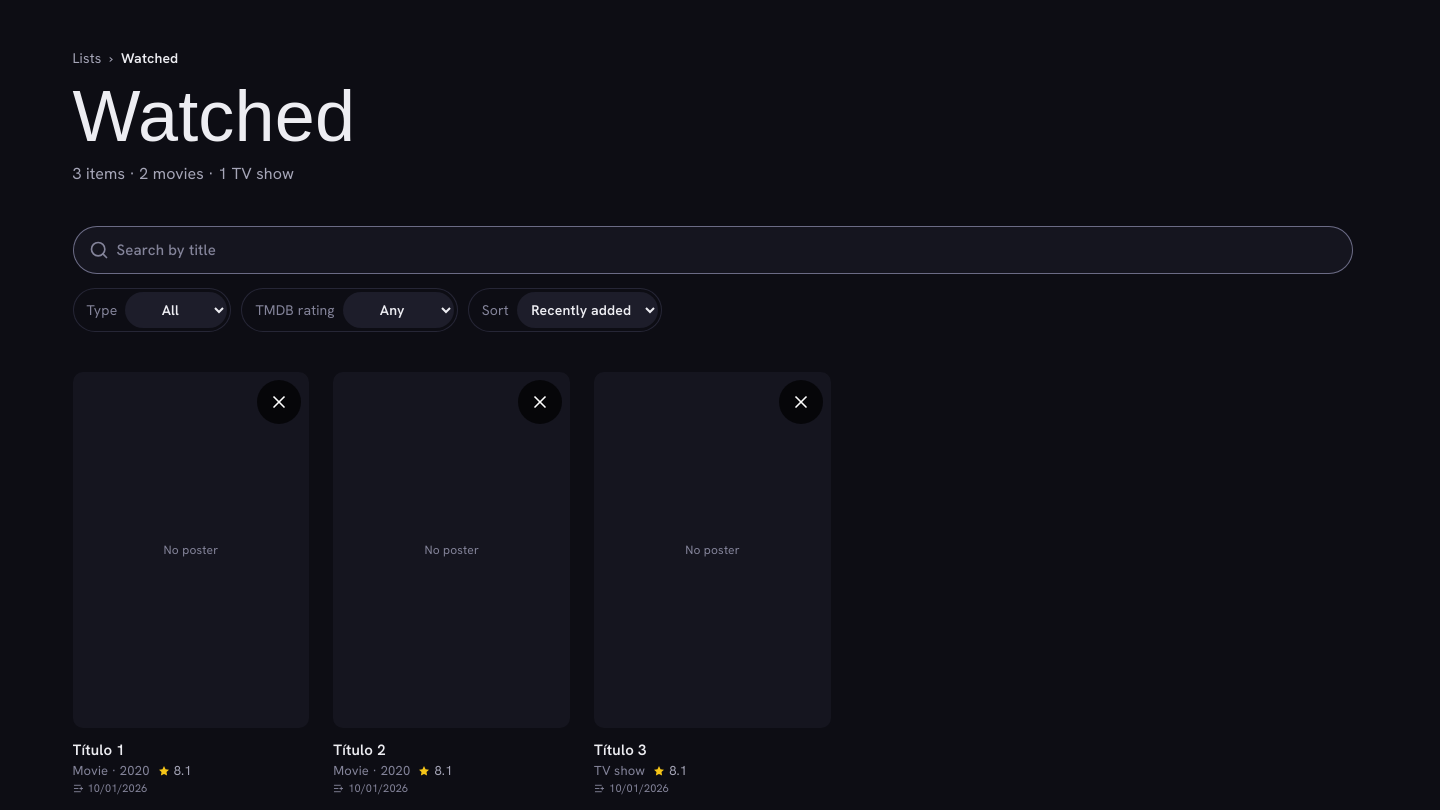
Detalle de una lista › Watched con título calificado: pide confirmar el borrado de la calificación y reintenta
The width and height of the screenshot is (1440, 810).
Expected: the link "No poster Título 1 Movie · 2020 8.1 10/01/2026" is shown, 72,372 -> 309,797
Click the button named "Remove Título 1 from Watched" at (279, 402), box 257,380 -> 301,424
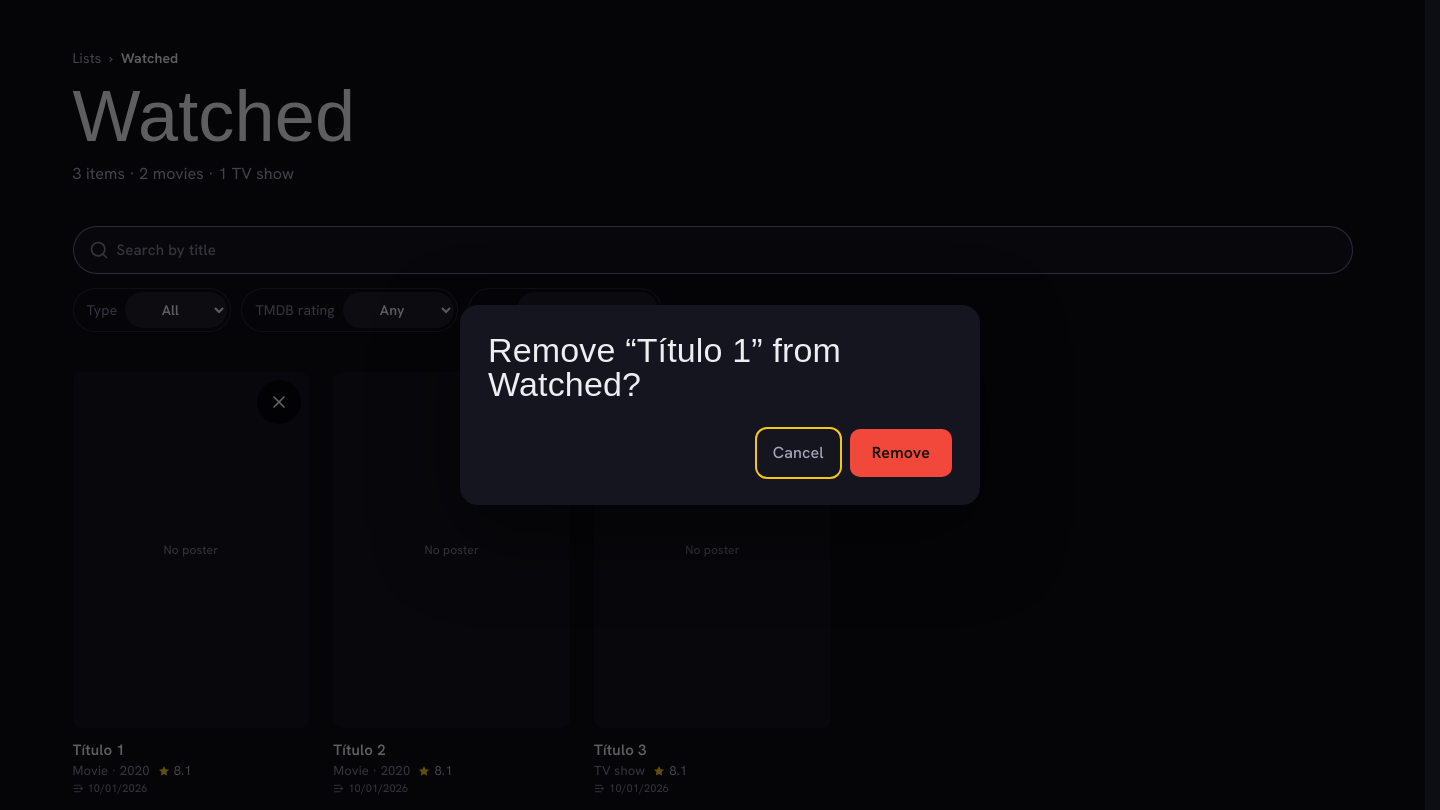
Click the button "Remove" at (901, 453), box 850,429 -> 952,477
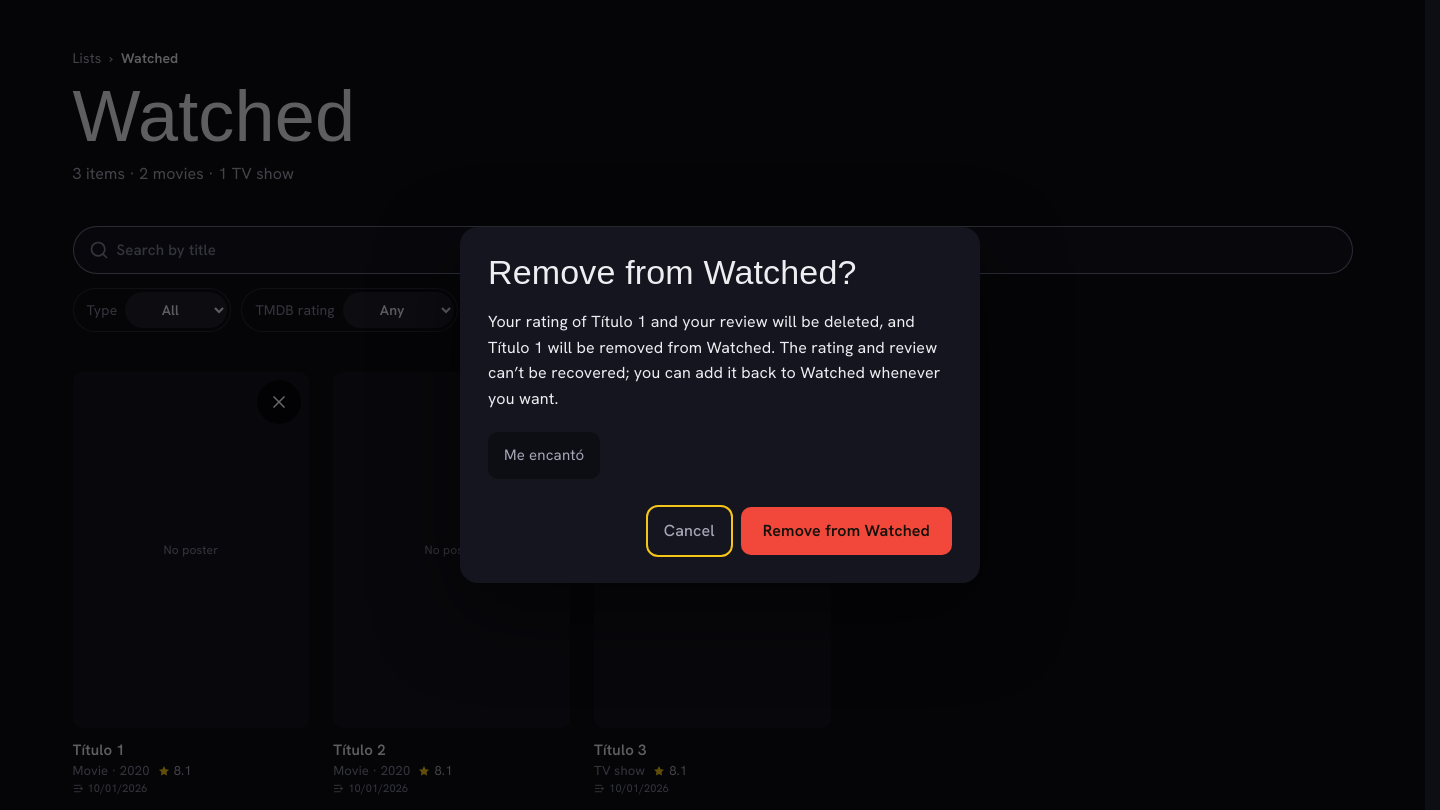
Expected: the link "No poster Título 1 Movie · 2020 8.1 10/01/2026" is shown, 72,372 -> 309,797
Result: the text "and your review will be deleted" is shown at 488,311 -> 940,409
Result: the text "Me encantó" is shown at 488,432 -> 600,479
Click the button "Remove from Watched" at (846, 531), box 741,507 -> 952,555
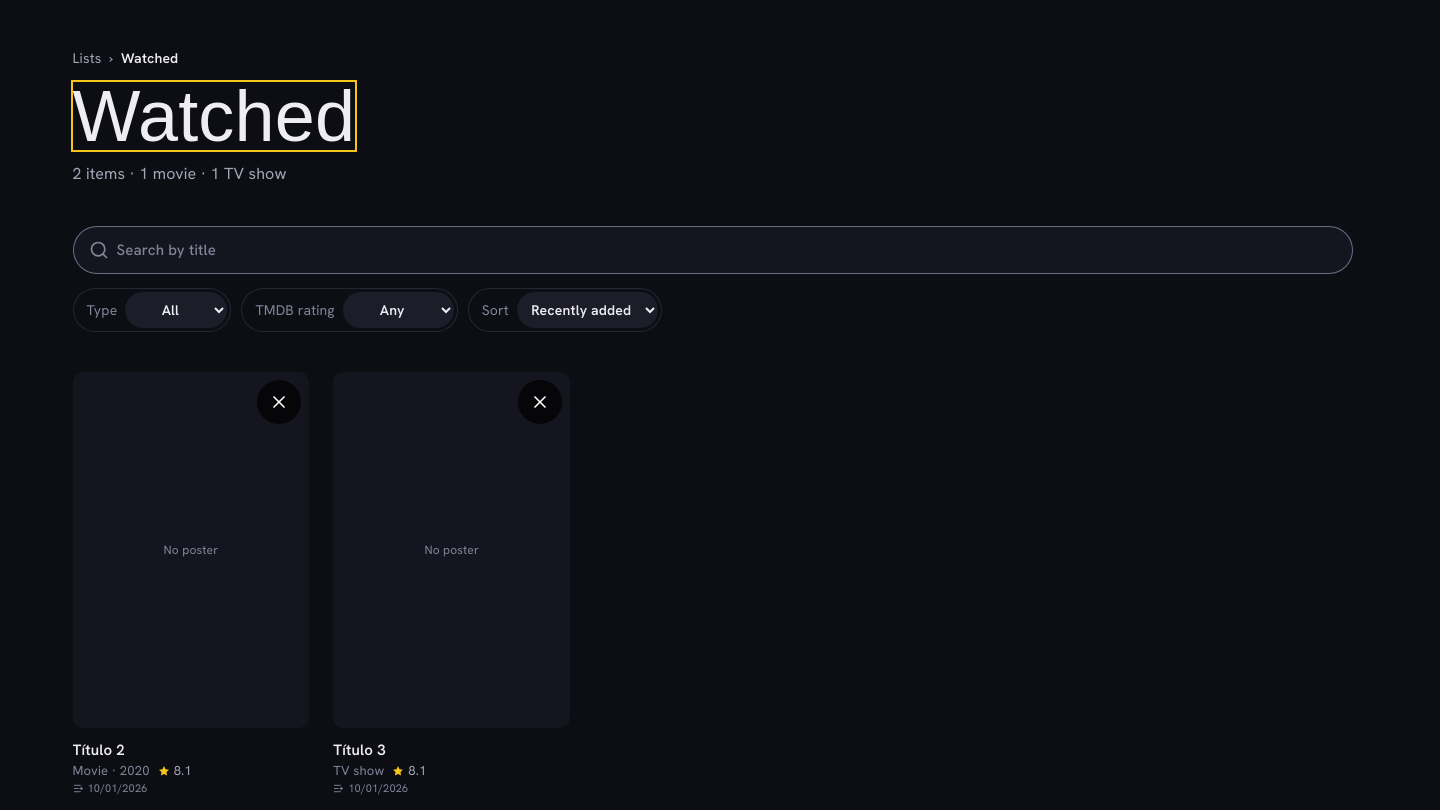
Result: the link "Título 1" is gone
